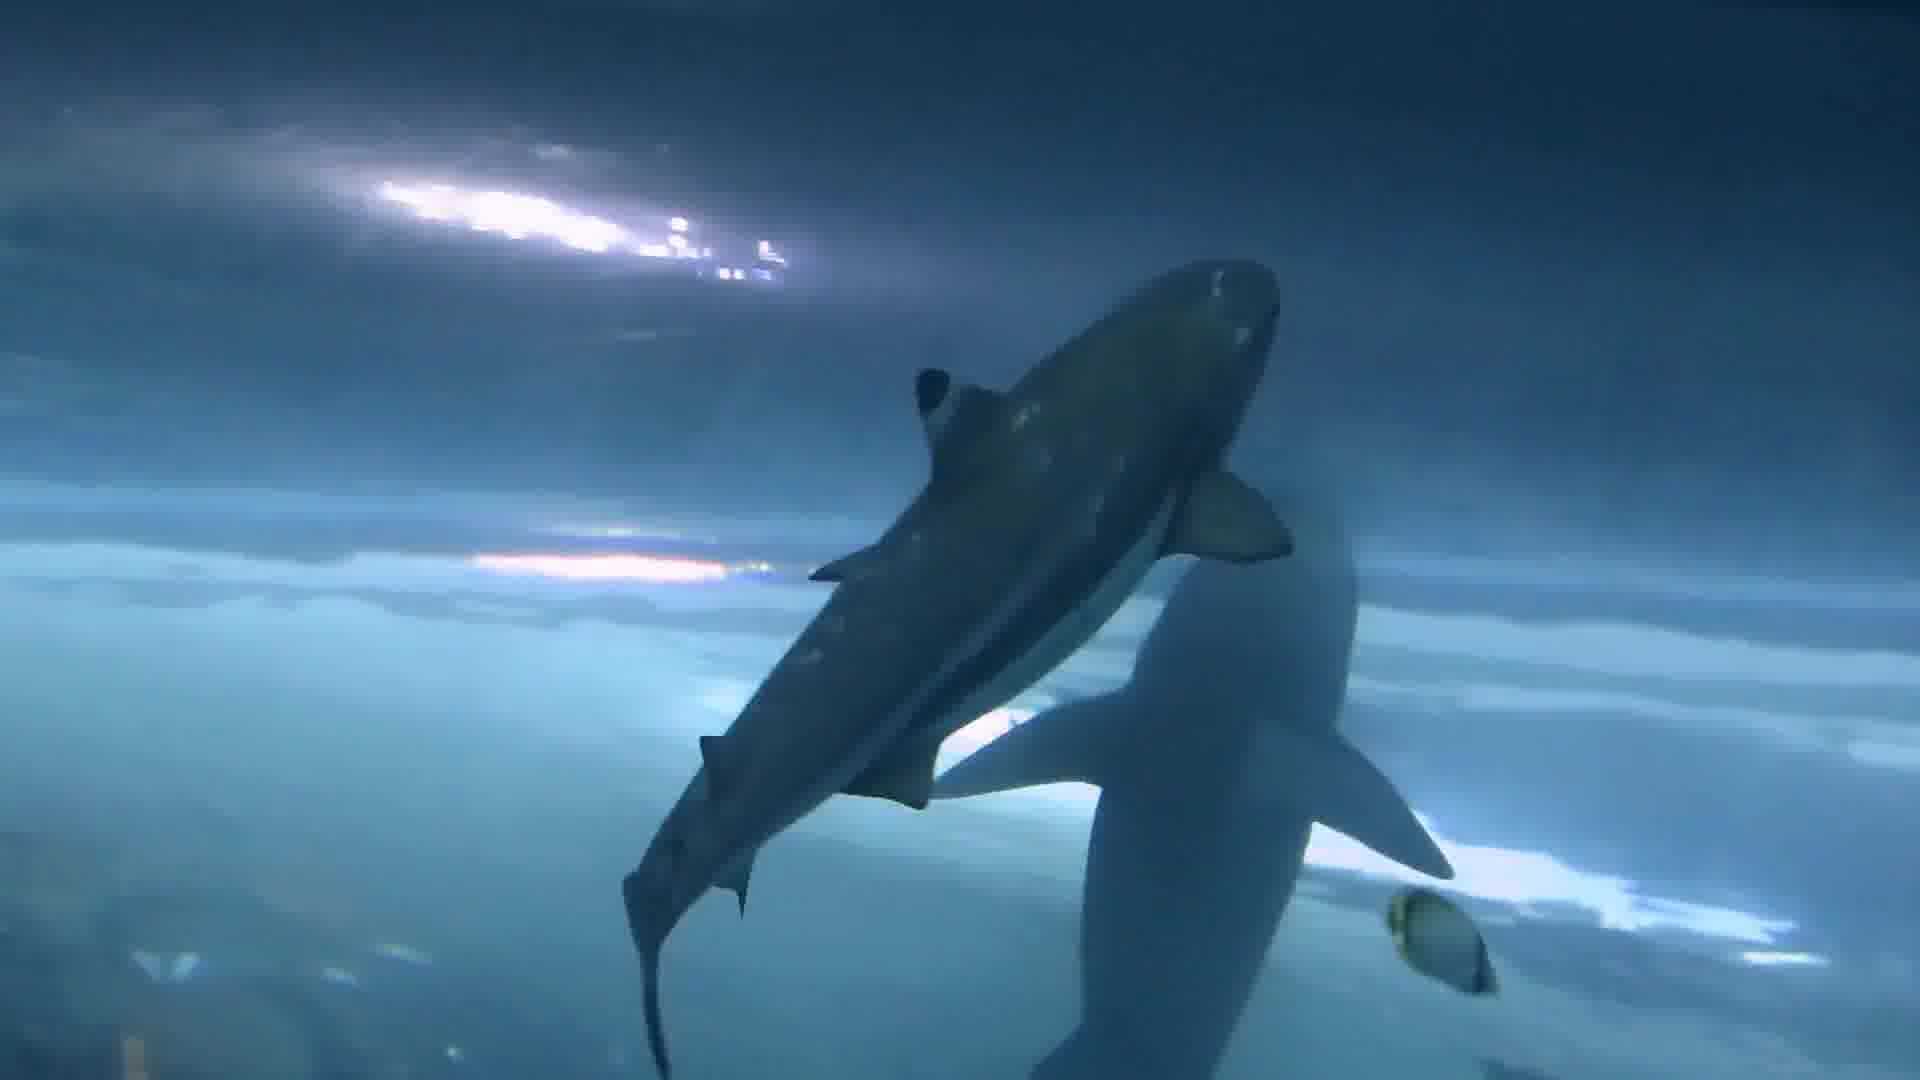Carcharhinus melanopterus: (517, 220, 1414, 1011)
